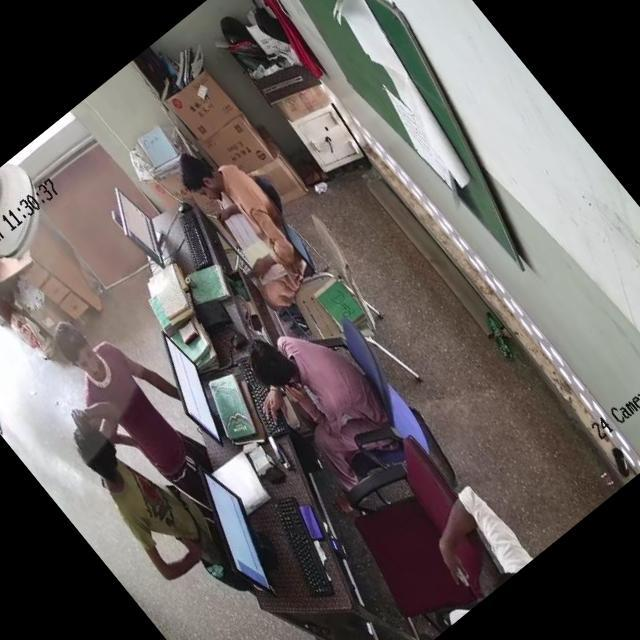person: (51, 303, 232, 506), (64, 406, 224, 582), (230, 298, 386, 462), (172, 132, 317, 292)
